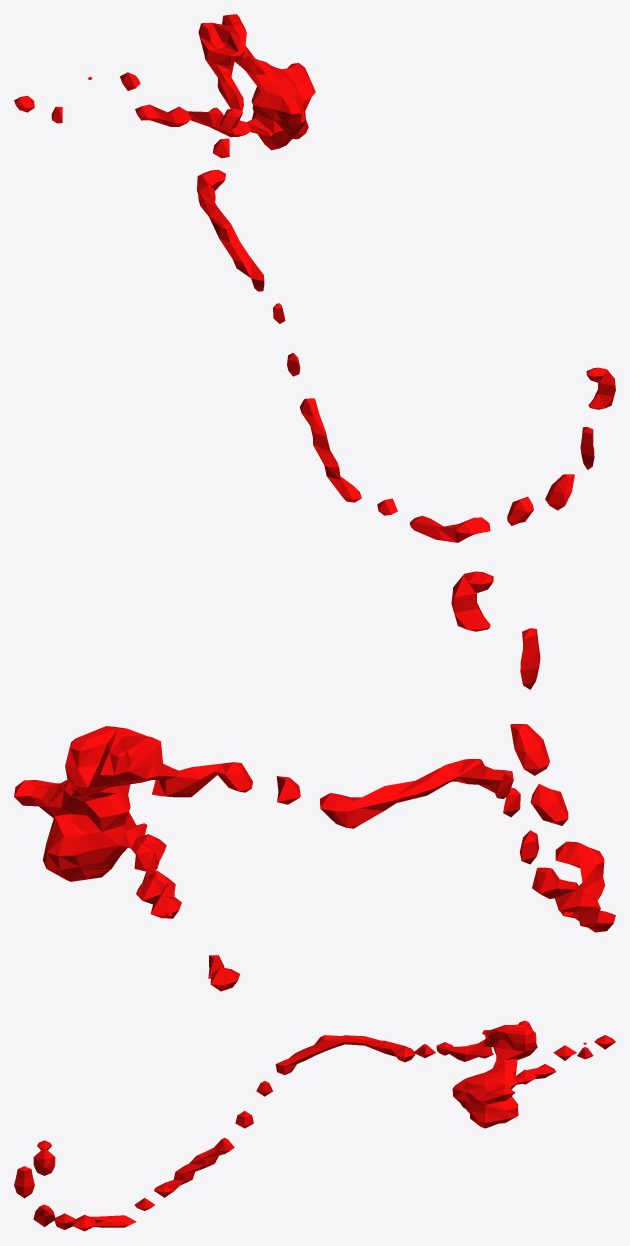
The model's file is fliK_coarse.dae.
The picture shows the model from 3 angles, top to bottom: view 1: azimuth 30°, elevation 25°; view 2: azimuth 150°, elevation 25°; view 3: azimuth 270°, elevation 25°; orthographic projection. The views are drawn at different scales.
Parts seen in each view (by area): view 1: fliK; view 2: fliK; view 3: fliK.
Part boxes in pixels (box(x1,y1,x2,y2)): fliK: box(14, 14, 615, 542); fliK: box(14, 571, 615, 991); fliK: box(14, 1020, 615, 1231).
Size of the model in its own units: 132 by 169 by 408.
